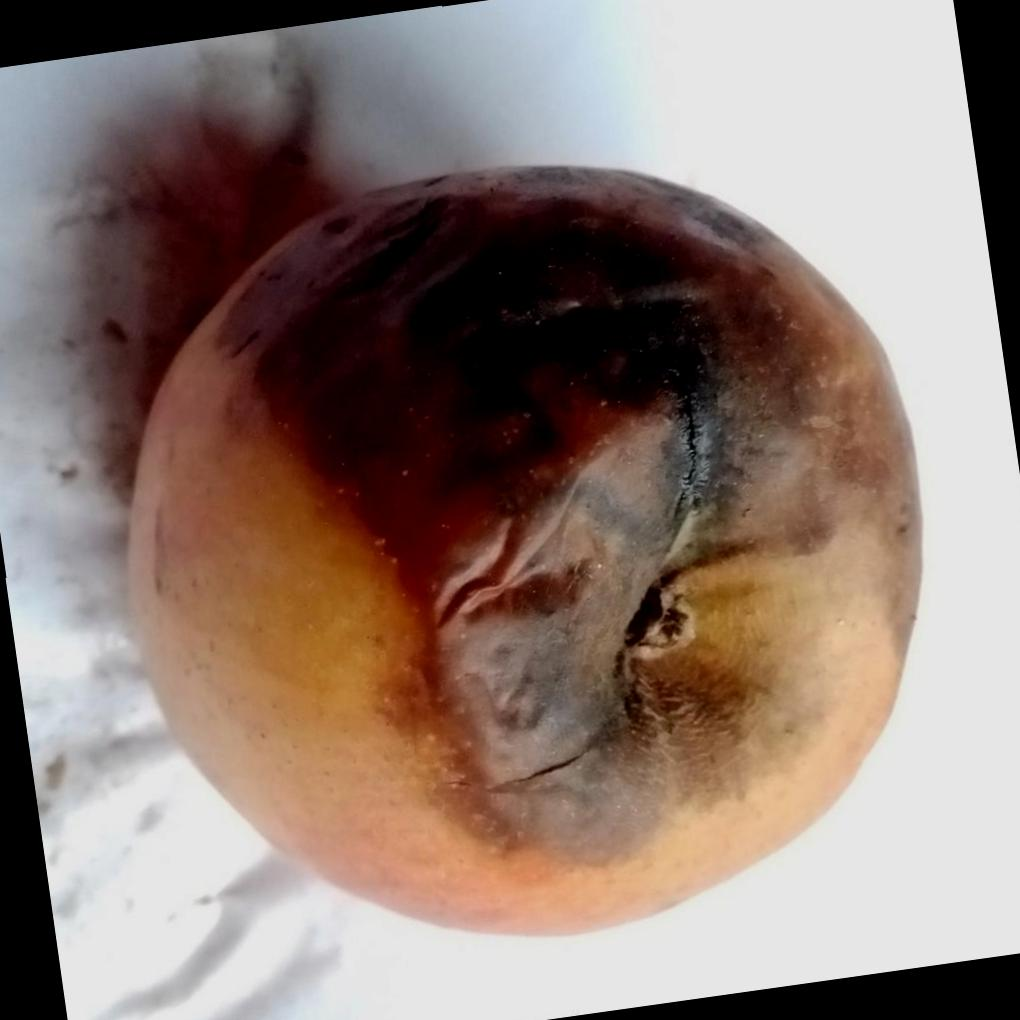FreshOrange: (123, 160, 925, 937)
